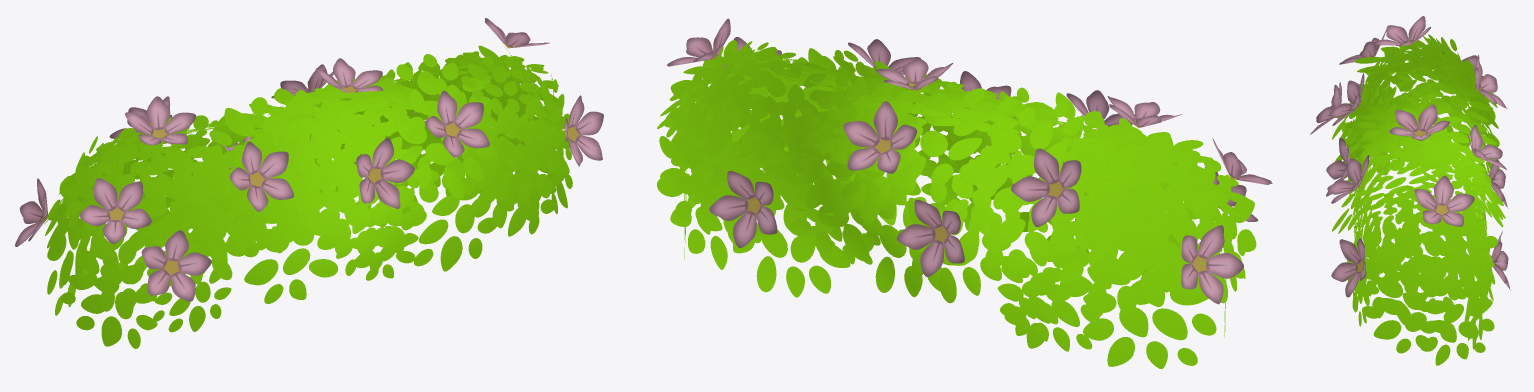
The model's file is Bush_Small_Flowers.glb.
3 renders of one model, left to right at view 1: azimuth 30°, elevation 25°; view 2: azimuth 150°, elevation 25°; view 3: azimuth 270°, elevation 25°, orthographic. The views are drawn at different scales.
Parts seen in each view (by area): view 1: Bush_Small_Flowers; view 2: Bush_Small_Flowers; view 3: Bush_Small_Flowers.
Part boxes in pixels (bbox=[...]): Bush_Small_Flowers: bbox=[15, 18, 603, 348]; Bush_Small_Flowers: bbox=[657, 18, 1272, 368]; Bush_Small_Flowers: bbox=[1310, 16, 1510, 365].
Bounding box in the file's own units: 1.93 × 0.8168 × 0.7618.
Materials: 2 (2 with a texture image).
